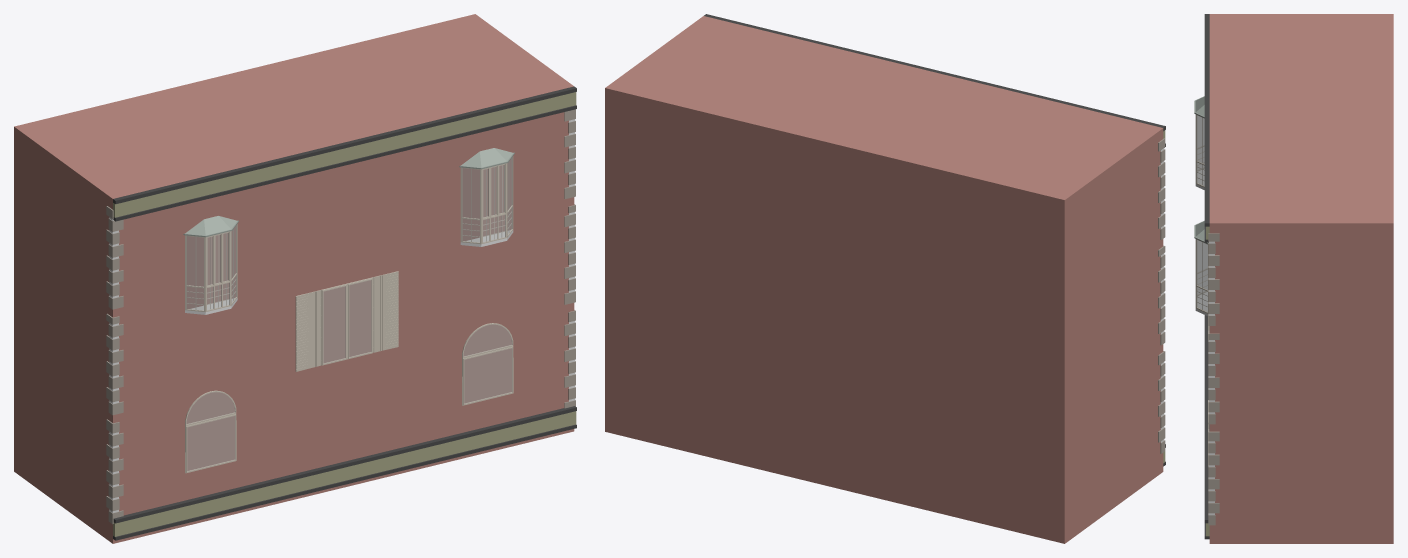
File: last_build_5.fbx
The picture shows the model from 3 angles, left to right: view 1: azimuth 30°, elevation 25°; view 2: azimuth 150°, elevation 25°; view 3: azimuth 270°, elevation 25°; orthographic projection. The views are drawn at different scales.
Parts seen in each view (by area): view 1: building_5; view 2: building_5; view 3: building_5.
Boxes of the visible parts, bbox=[...] form: building_5: bbox=[14, 14, 576, 543]; building_5: bbox=[605, 14, 1165, 543]; building_5: bbox=[1194, 14, 1393, 543].
Size of the model in its own units: 112 by 80 by 45.
